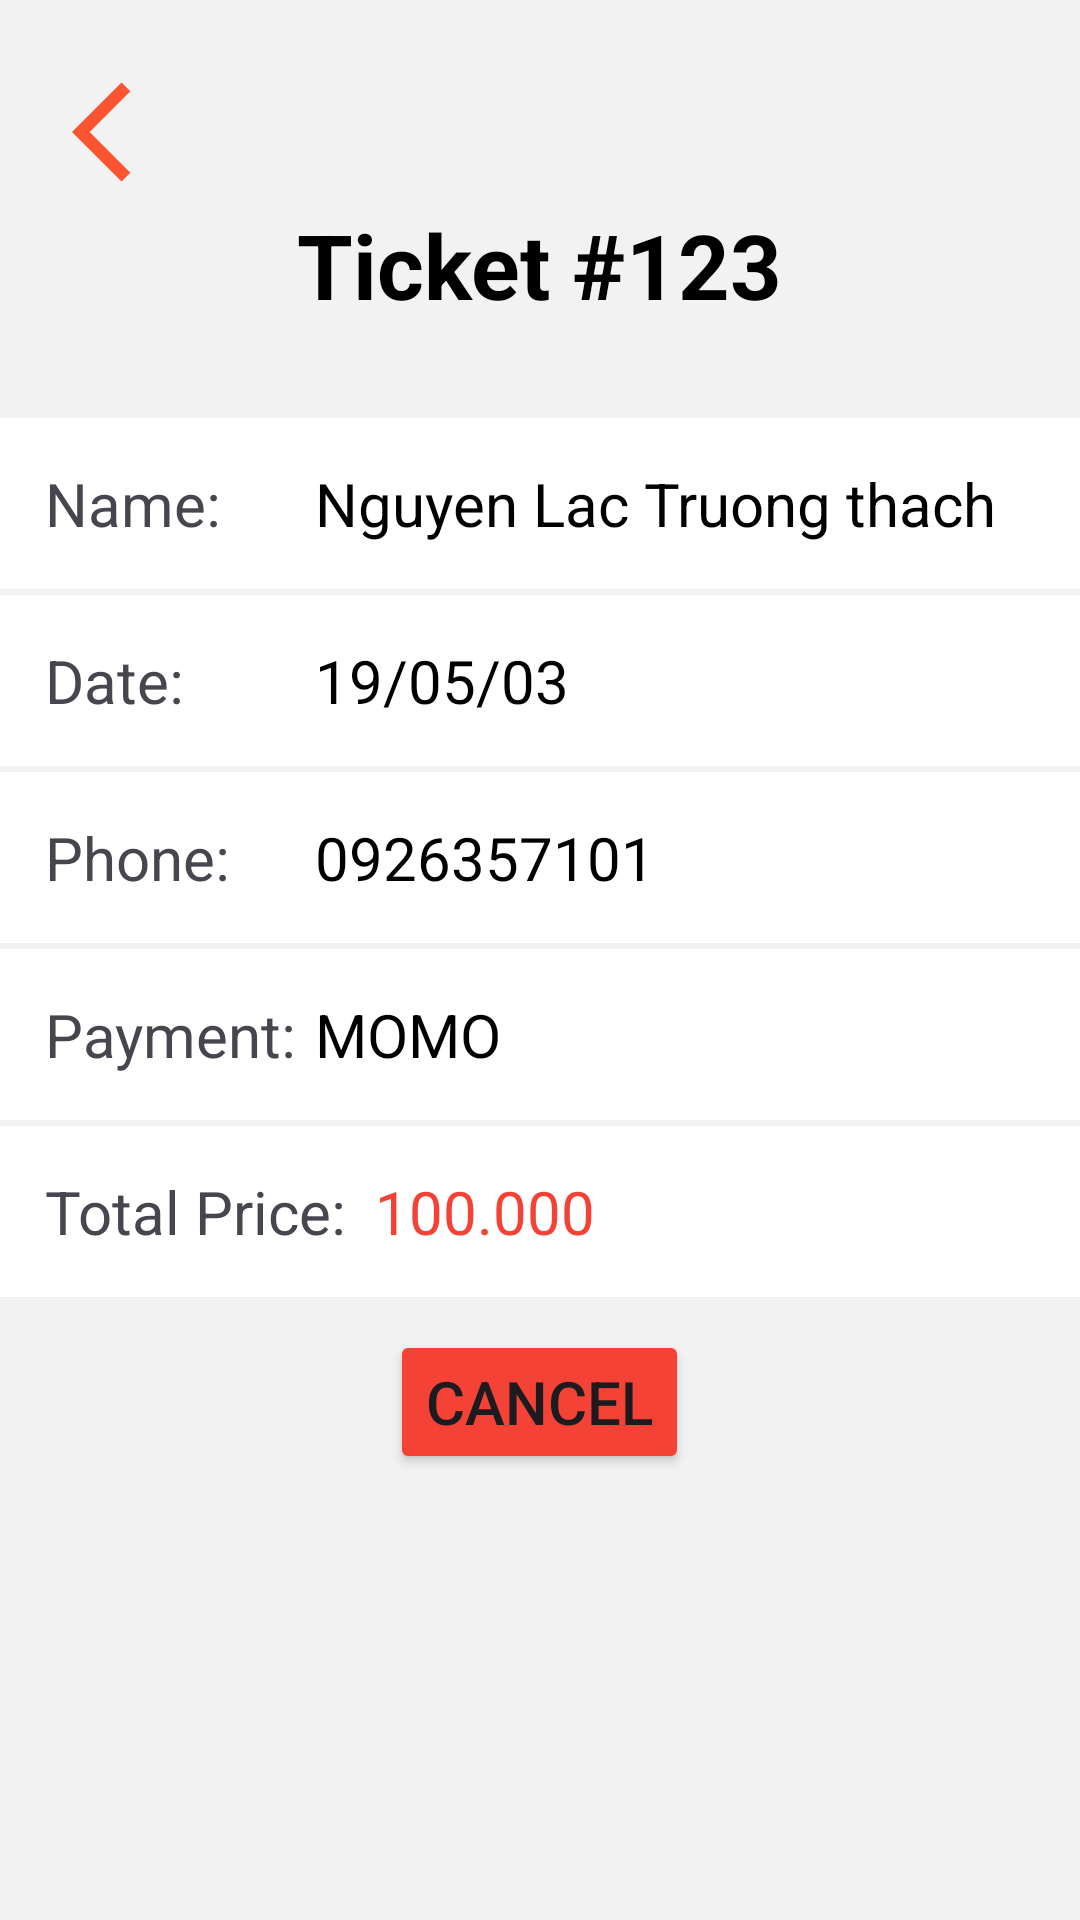

Screen size 1080*1920. Icon name, then its center in pixels as (x=x, y=y):
arrow back: (x=101, y=132)
